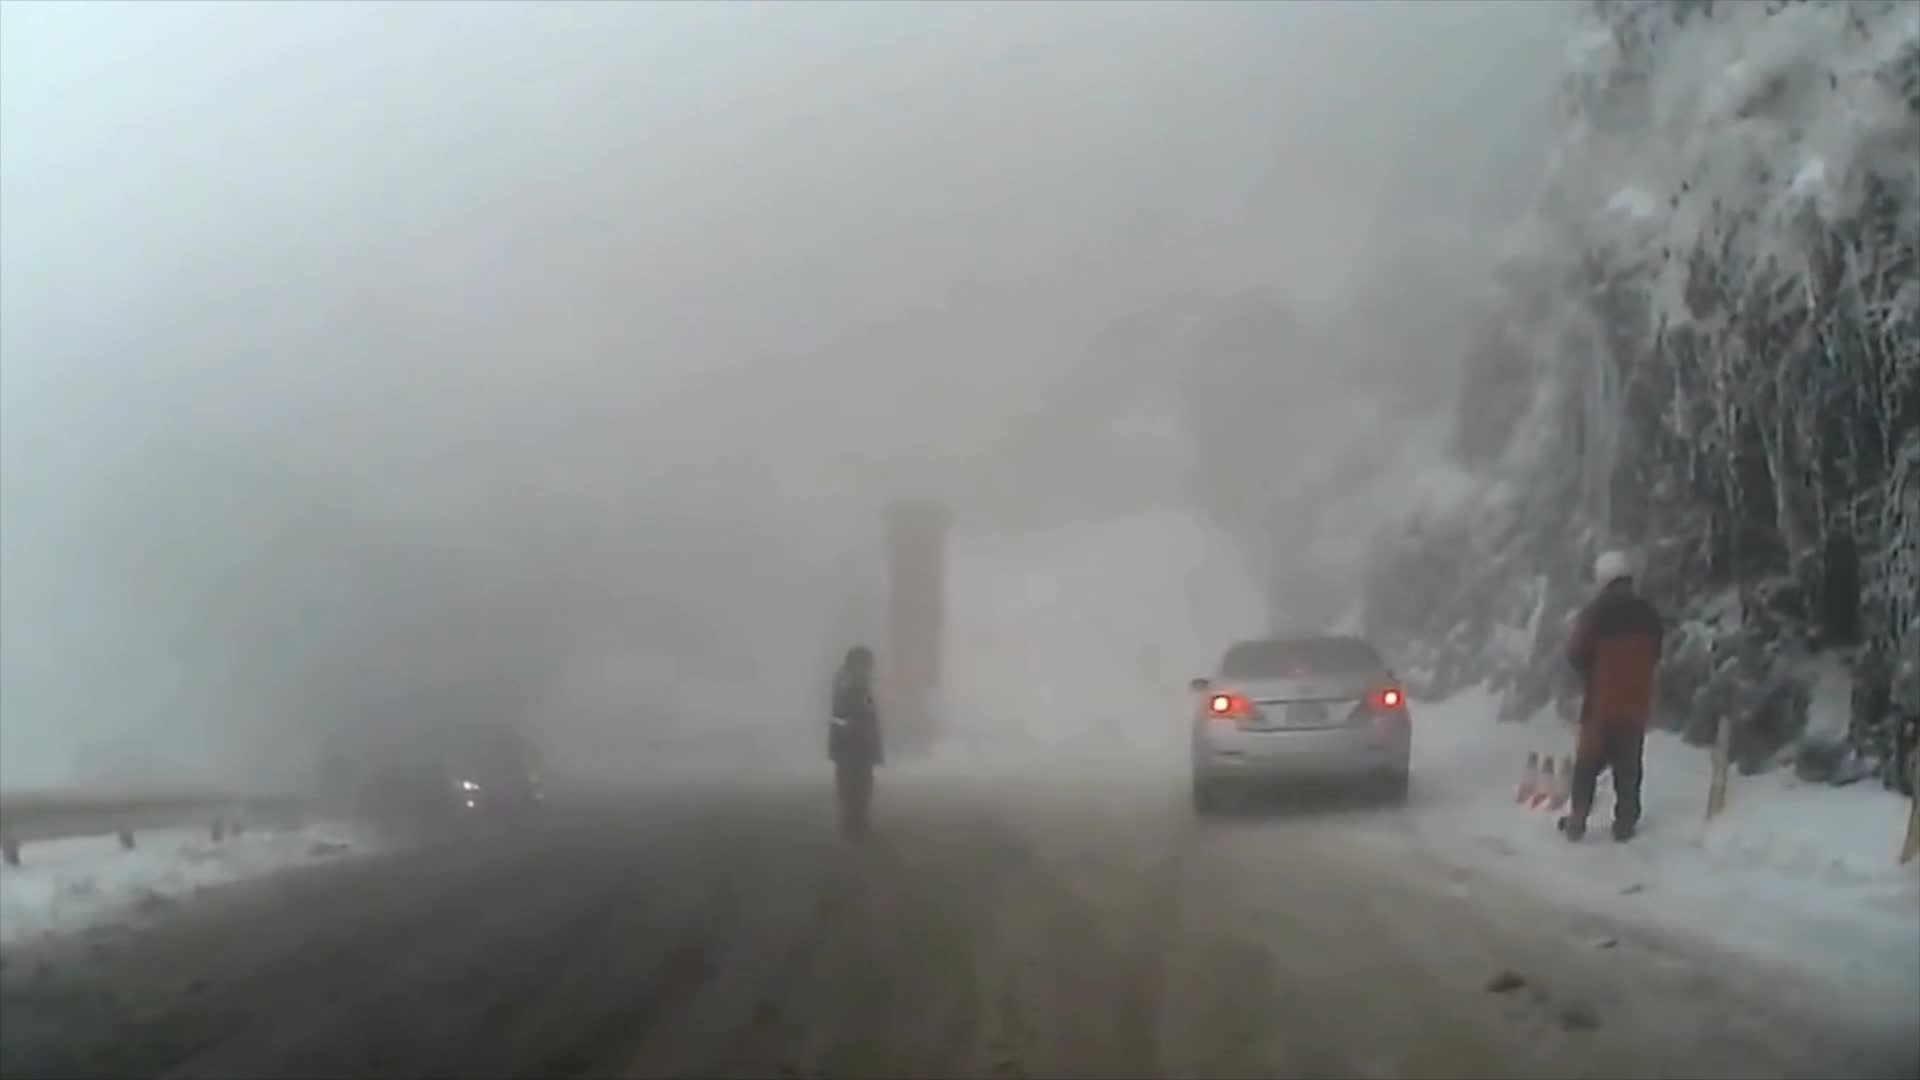pedestrian: (1552, 552, 1662, 856), (828, 645, 888, 839)
vehicle: (1186, 633, 1411, 816)
